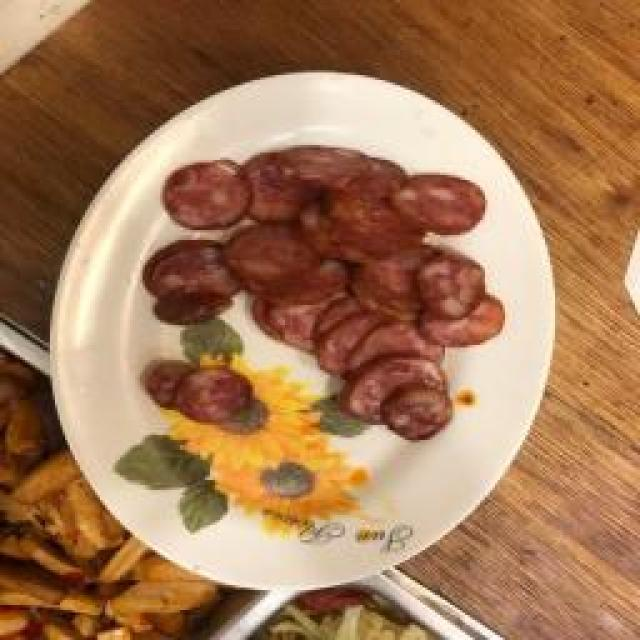Wet Waste: (142, 145, 500, 433)
